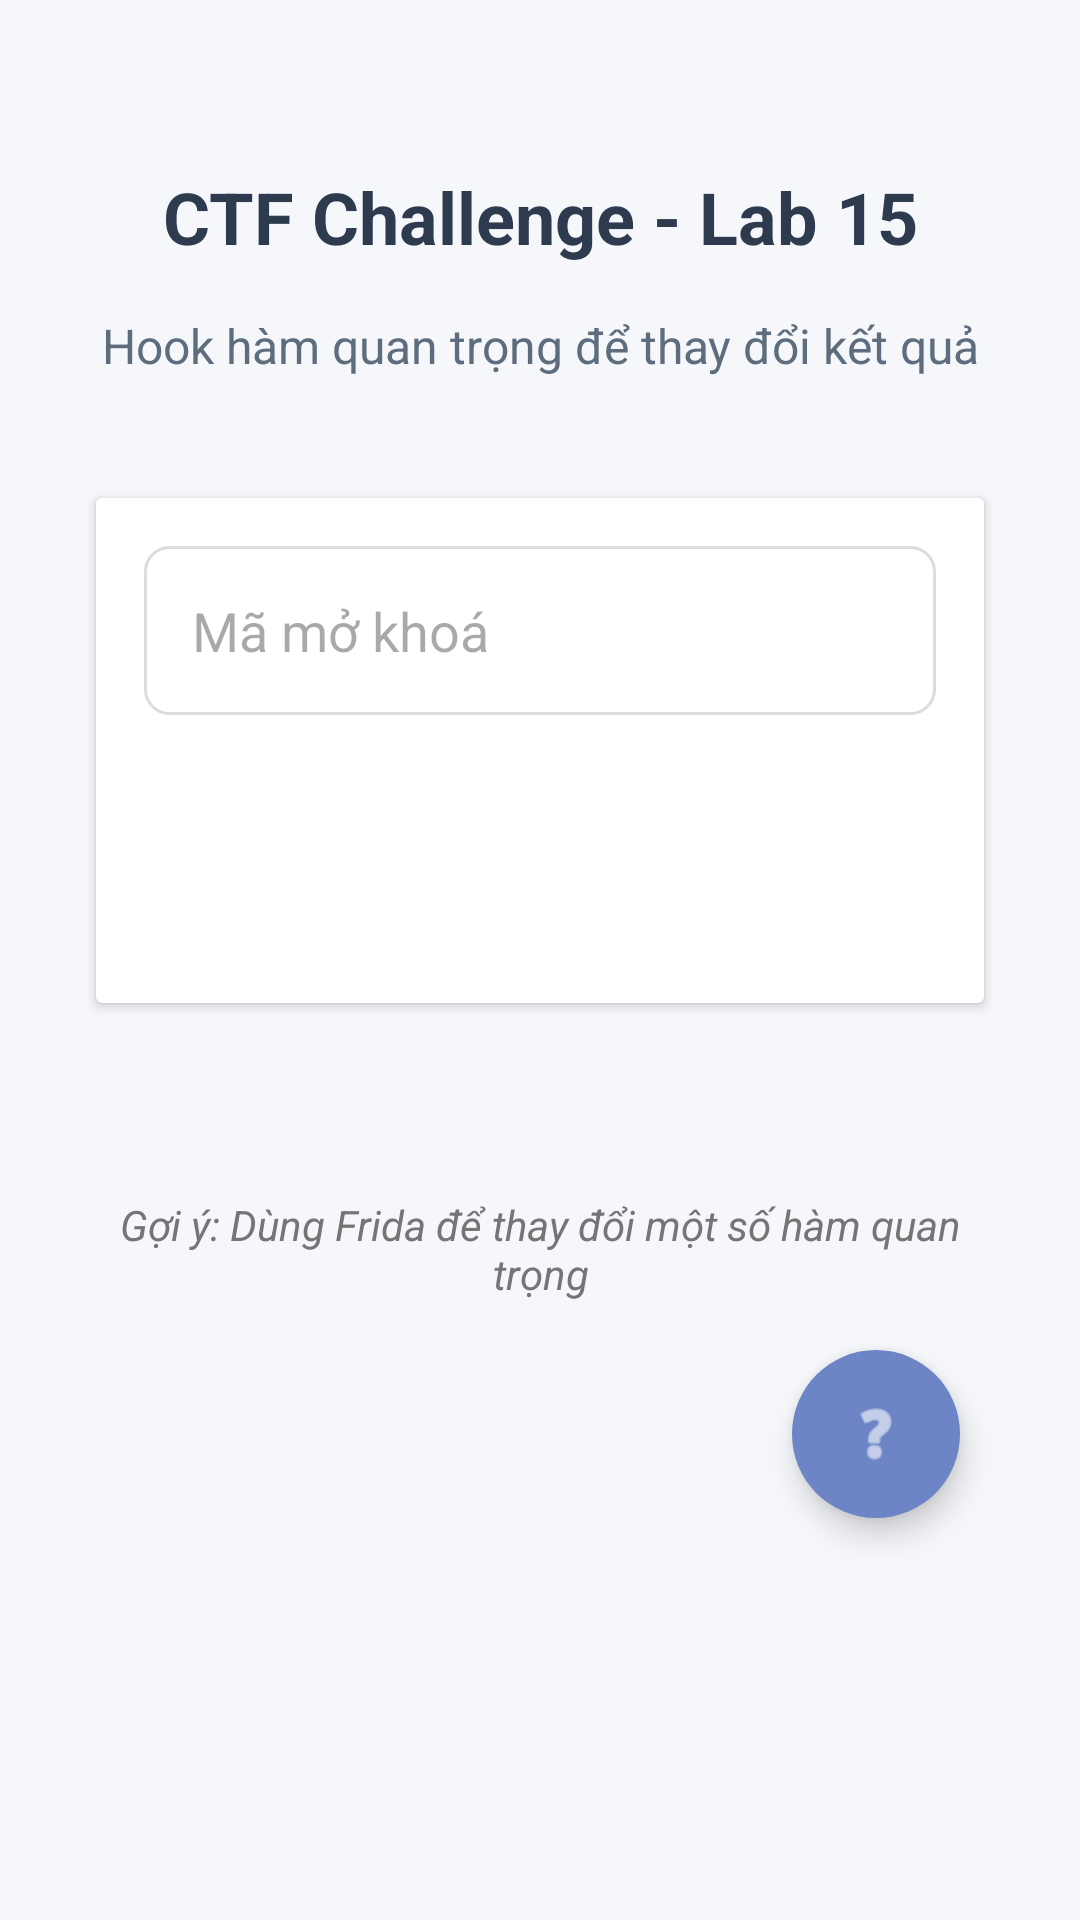

Icon bounding boxes for this 1080 x 1920 phone screenshot, format (x1, y1, x2, y2):
Help: (792, 1350, 960, 1518)
